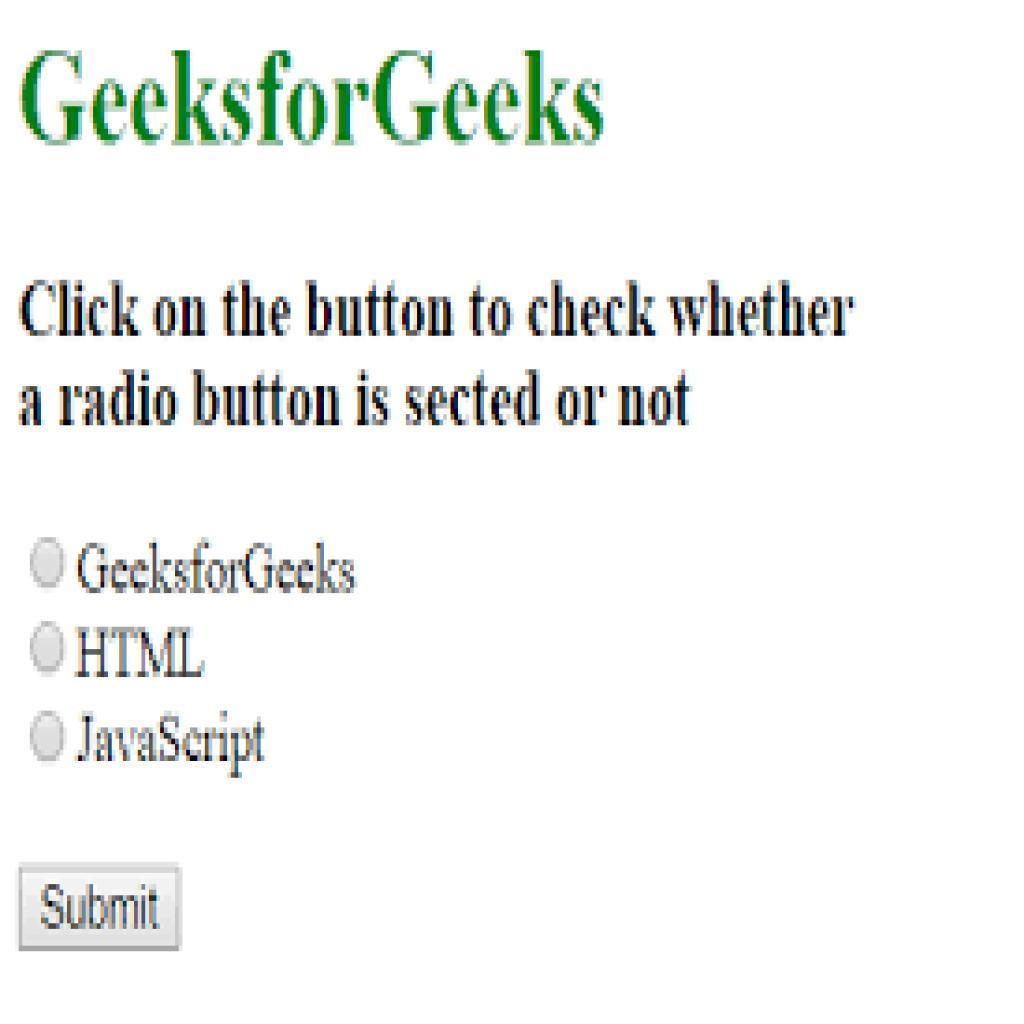button: (21, 867, 181, 950)
label: (77, 542, 363, 598), (81, 711, 270, 780), (78, 624, 205, 678)
radio: (27, 703, 76, 771), (26, 540, 68, 603), (27, 618, 70, 675)
